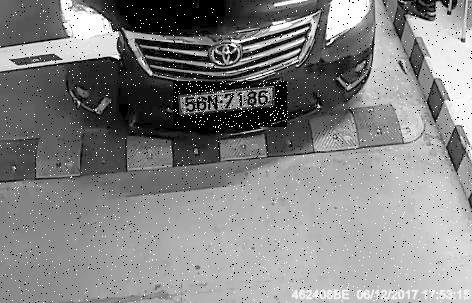License-plate: (175, 83, 290, 130)
